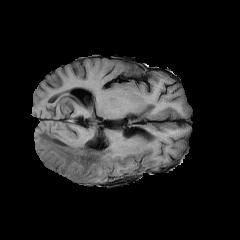glioma: (36, 127, 142, 179)
